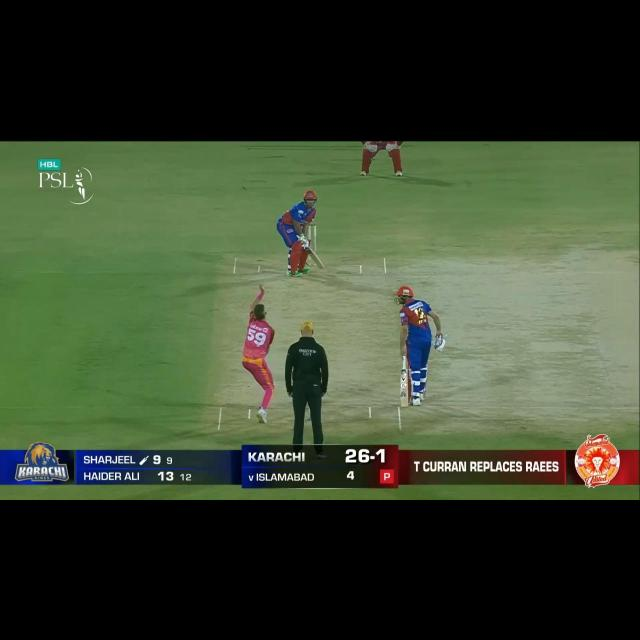bat: (303, 243, 325, 271), (401, 370, 412, 406)
toe: (315, 260, 326, 273), (400, 396, 410, 409)
